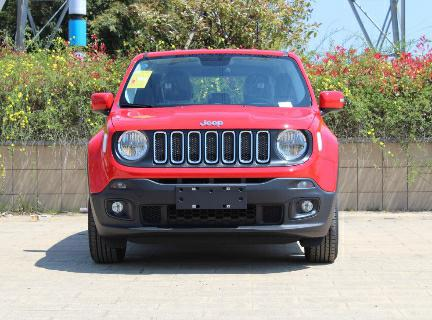Jeep-自由侠: (78, 43, 347, 274)
